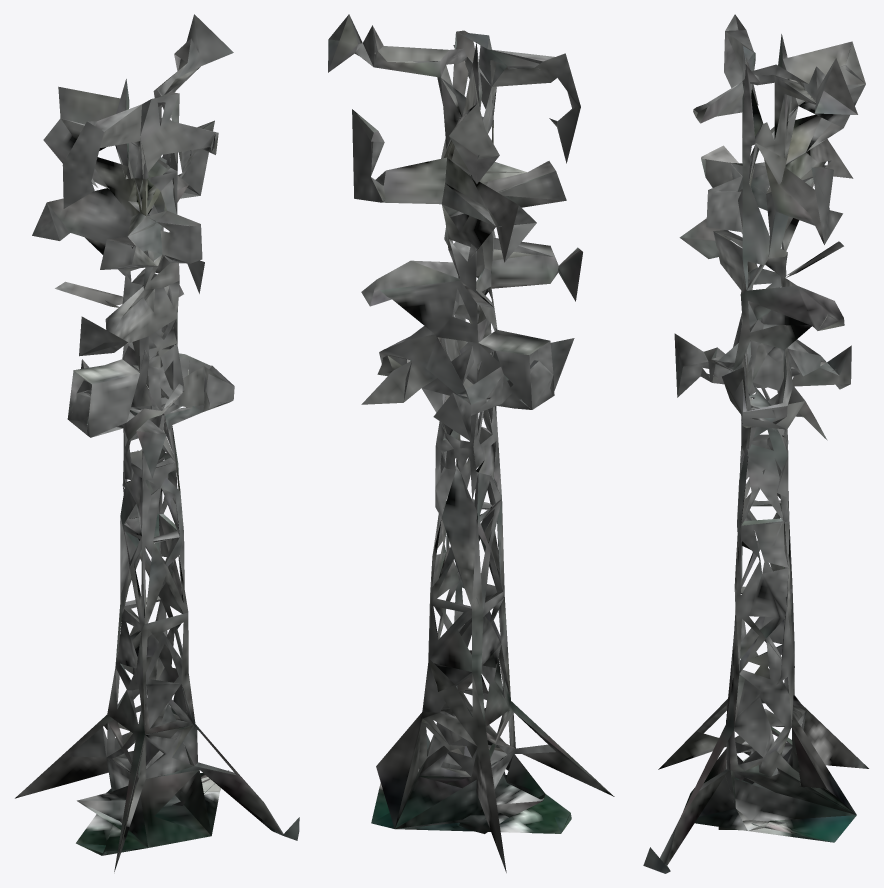
File: antenna_1010336062_lod0m.glb
3 views of the same model, side by side, from view 1: azimuth 30°, elevation 25°; view 2: azimuth 150°, elevation 25°; view 3: azimuth 270°, elevation 25° (orthographic). The views are drawn at different scales.
Bounding box in the file's own units: 1.77 × 6.34 × 1.62.
Materials: 1 (1 with a texture image).
